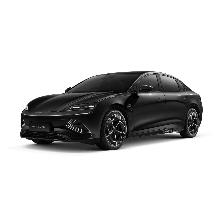EV: (21, 70, 205, 152)
